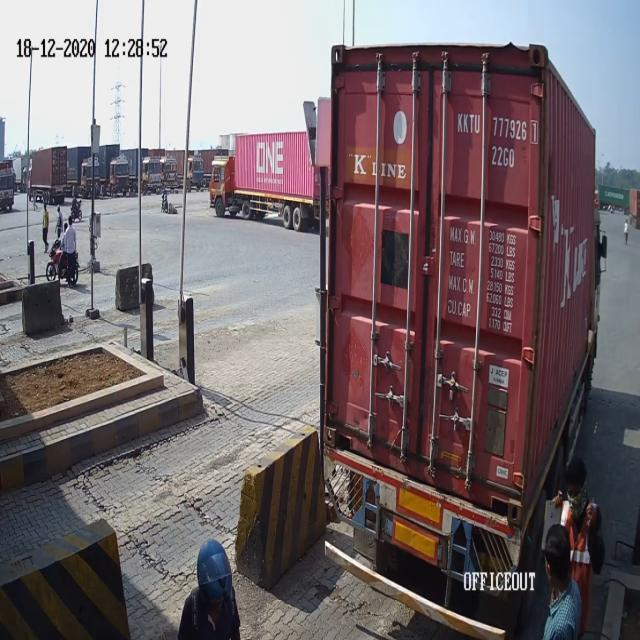ISO: (491, 146, 521, 170)
container_number: (456, 116, 536, 141)
